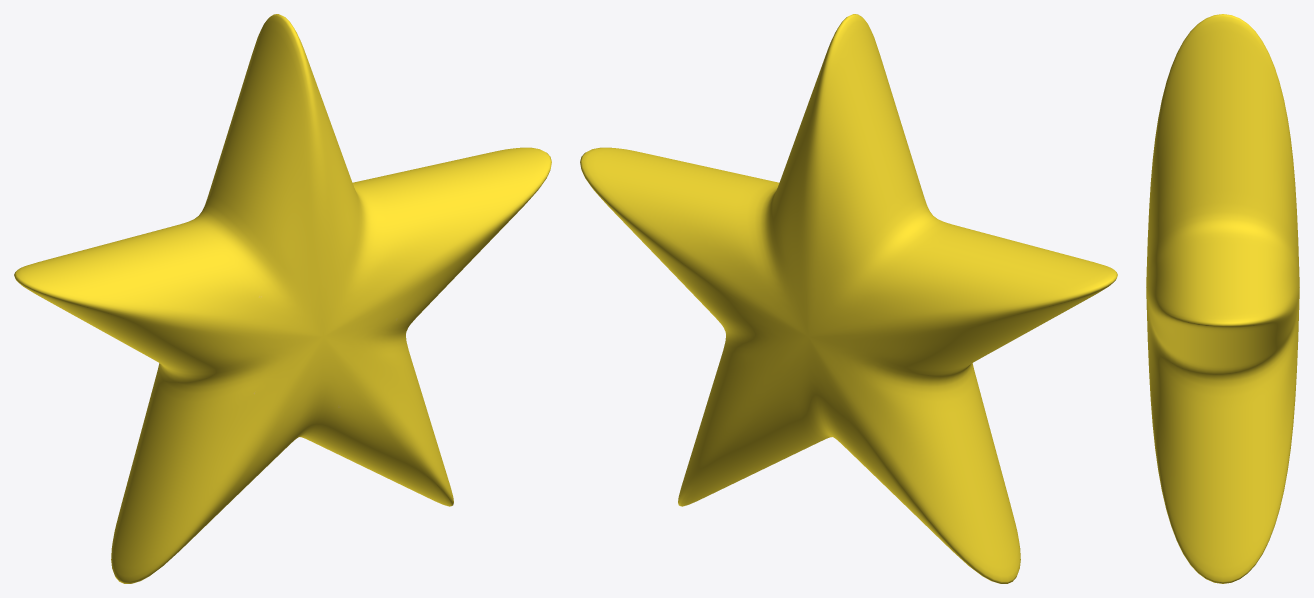
File: star.glb
3 renders of one model, left to right at view 1: azimuth 30°, elevation 25°; view 2: azimuth 150°, elevation 25°; view 3: azimuth 270°, elevation 25°, orthographic. The views are drawn at different scales.
Parts seen in each view (by area): view 1: Circle; view 2: Circle; view 3: Circle.
Part boxes in pixels (x1,y1,x2,y2): Circle: [14, 14, 551, 583]; Circle: [580, 14, 1117, 583]; Circle: [1146, 14, 1299, 583].
Bounding box in the file's own units: 1.81 × 1.72 × 0.4843.
1 material, 1 textured.
